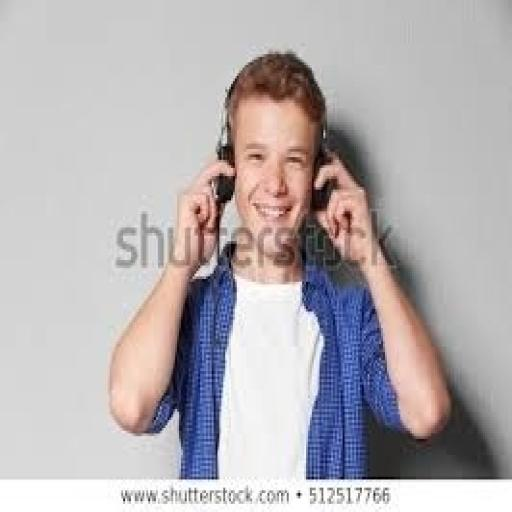listening_to_music: (106, 46, 454, 480)
